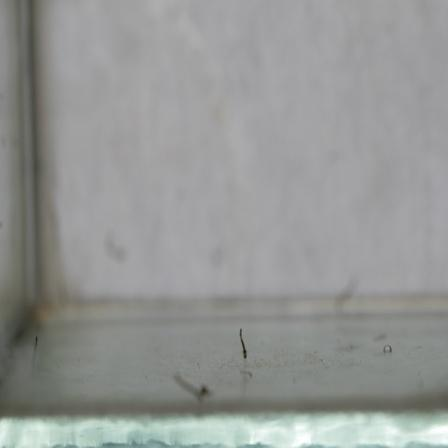Jentik-Nyamuk: (236, 325, 251, 361)
